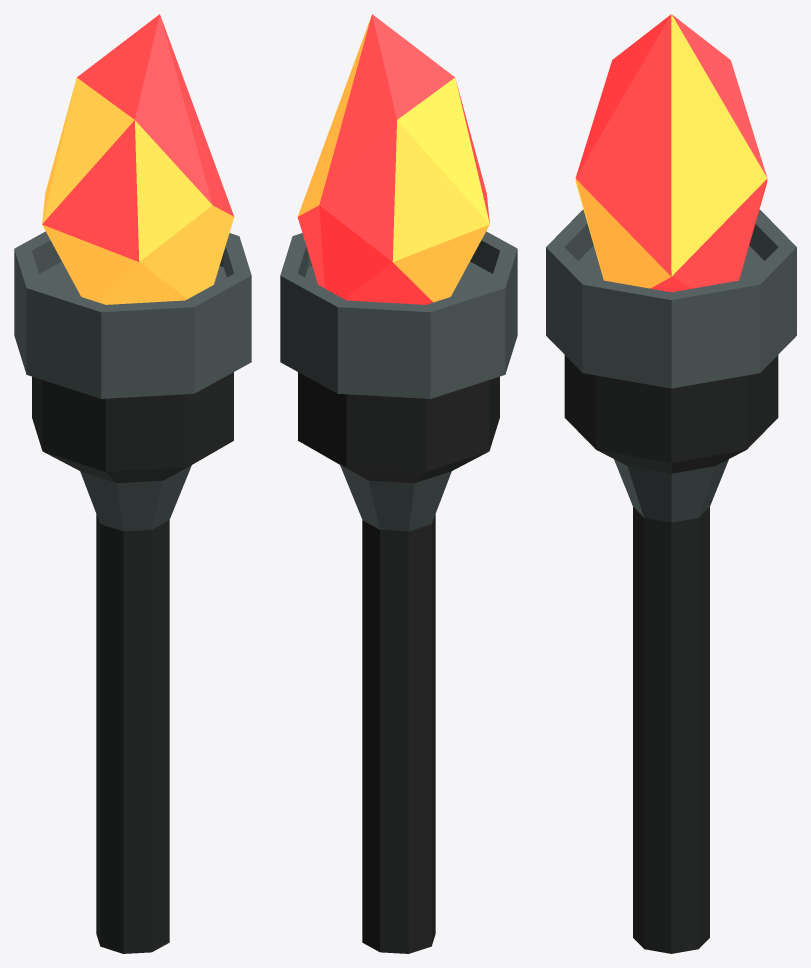
Rendered from Torch_5_Black.fbx.
3 renders of one model, left to right at view 1: azimuth 30°, elevation 25°; view 2: azimuth 150°, elevation 25°; view 3: azimuth 270°, elevation 25°, orthographic. The views are drawn at different scales.
Parts seen in each view (by area): view 1: Torch_5_Black_Part_1, Torch_5_Black_Part_2, Torch_5_Black_Part_4, Torch_5_Black_Part_3; view 2: Torch_5_Black_Part_1, Torch_5_Black_Part_2, Torch_5_Black_Part_3, Torch_5_Black_Part_4; view 3: Torch_5_Black_Part_1, Torch_5_Black_Part_2, Torch_5_Black_Part_3, Torch_5_Black_Part_4.
Boxes of the visible parts, x1,y1,x2,y2 form: Torch_5_Black_Part_1: (32,372,233,953); Torch_5_Black_Part_2: (14,231,251,531); Torch_5_Black_Part_4: (42,78,234,304); Torch_5_Black_Part_3: (42,14,234,261); Torch_5_Black_Part_1: (298,372,499,953); Torch_5_Black_Part_2: (280,231,517,531); Torch_5_Black_Part_3: (297,14,489,304); Torch_5_Black_Part_4: (297,16,489,302); Torch_5_Black_Part_1: (564,355,778,953); Torch_5_Black_Part_2: (546,209,796,522); Torch_5_Black_Part_3: (575,14,767,292); Torch_5_Black_Part_4: (575,14,767,288).
Size of the model in its own units: 13.01 by 53.59 by 13.01.
